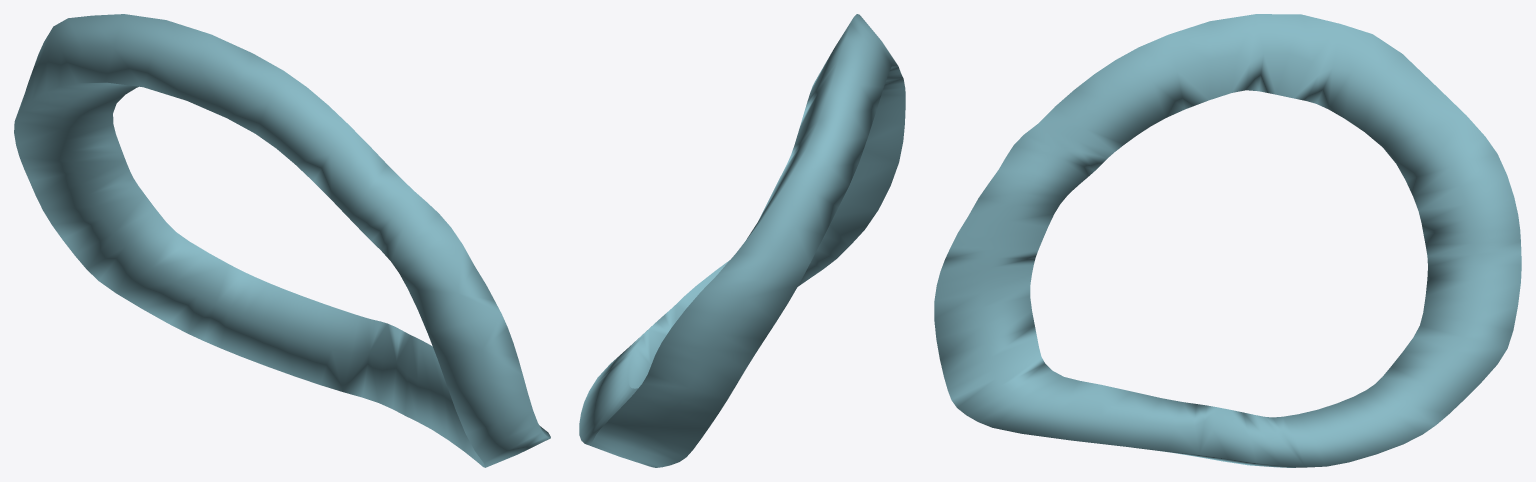
The picture shows the model from 3 angles, left to right: view 1: azimuth 30°, elevation 25°; view 2: azimuth 150°, elevation 25°; view 3: azimuth 270°, elevation 25°; orthographic projection. The views are drawn at different scales.
Visible parts, largest first — view 1: 右侧关节盂唇; view 2: 右侧关节盂唇; view 3: 右侧关节盂唇.
Part boxes in pixels (bbox=[...]): 右侧关节盂唇: bbox=[14, 14, 550, 467]; 右侧关节盂唇: bbox=[579, 14, 905, 467]; 右侧关节盂唇: bbox=[934, 14, 1521, 467].
Size of the model in its own units: 0.028 by 0.0372 by 0.0527.
